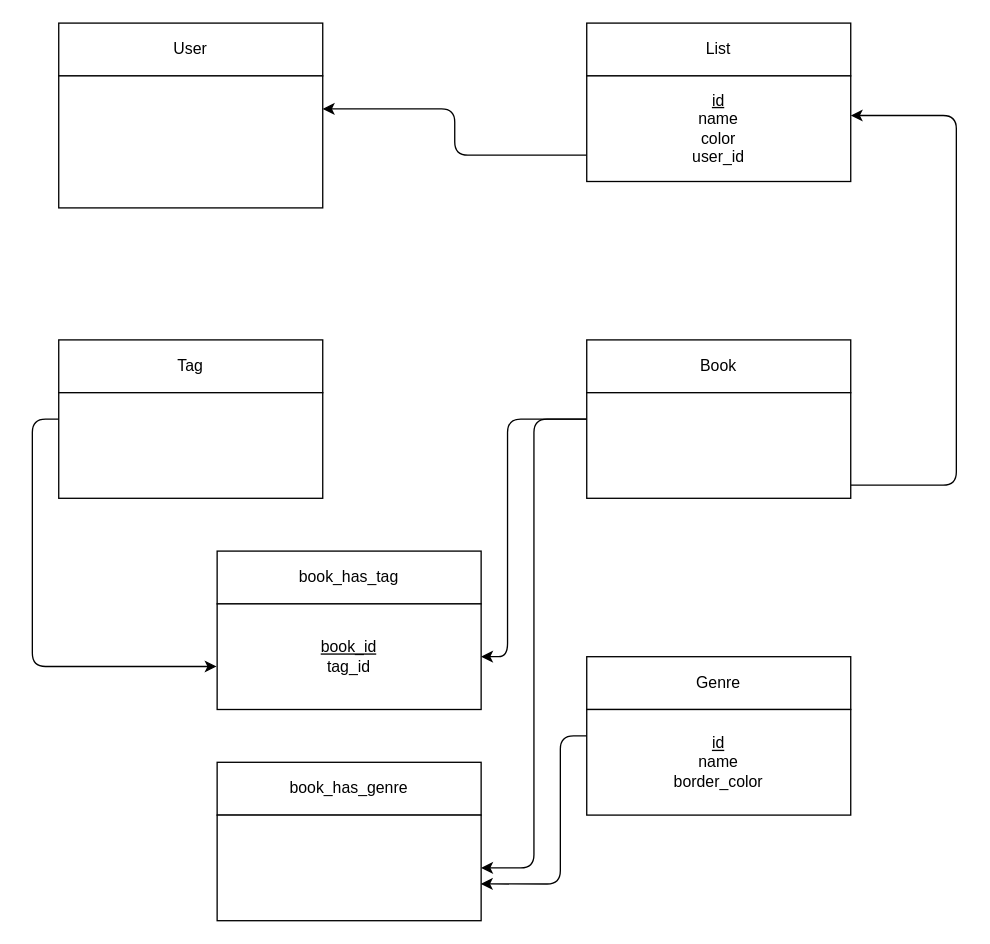
Image size: 990x944. Some labels were removed from this diagram. Each missing label, with the centre of its shape:
"book_id genre_id" goes at (x=348, y=867).
"id mail password lastname firstname" goes at (x=190, y=141).
"id title author library_code_number list_id" goes at (x=718, y=444).
"id title color" goes at (x=190, y=444).
